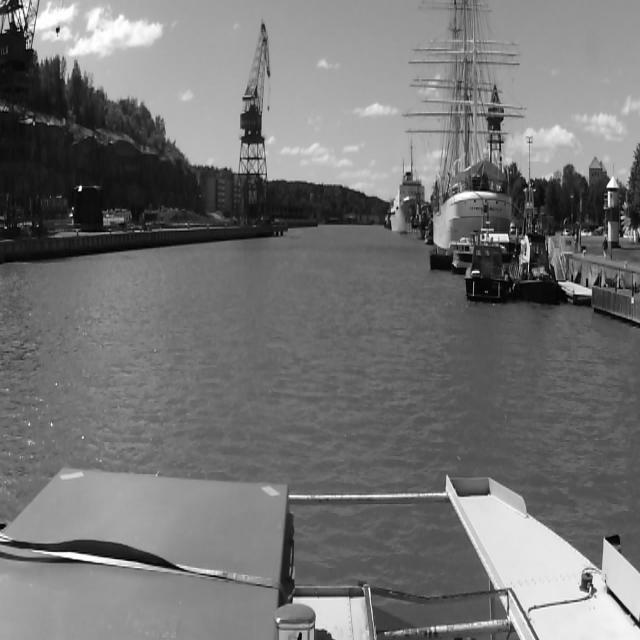ship: (394, 0, 520, 251), (510, 212, 564, 304), (464, 242, 508, 304), (389, 168, 427, 234), (408, 185, 430, 242)
